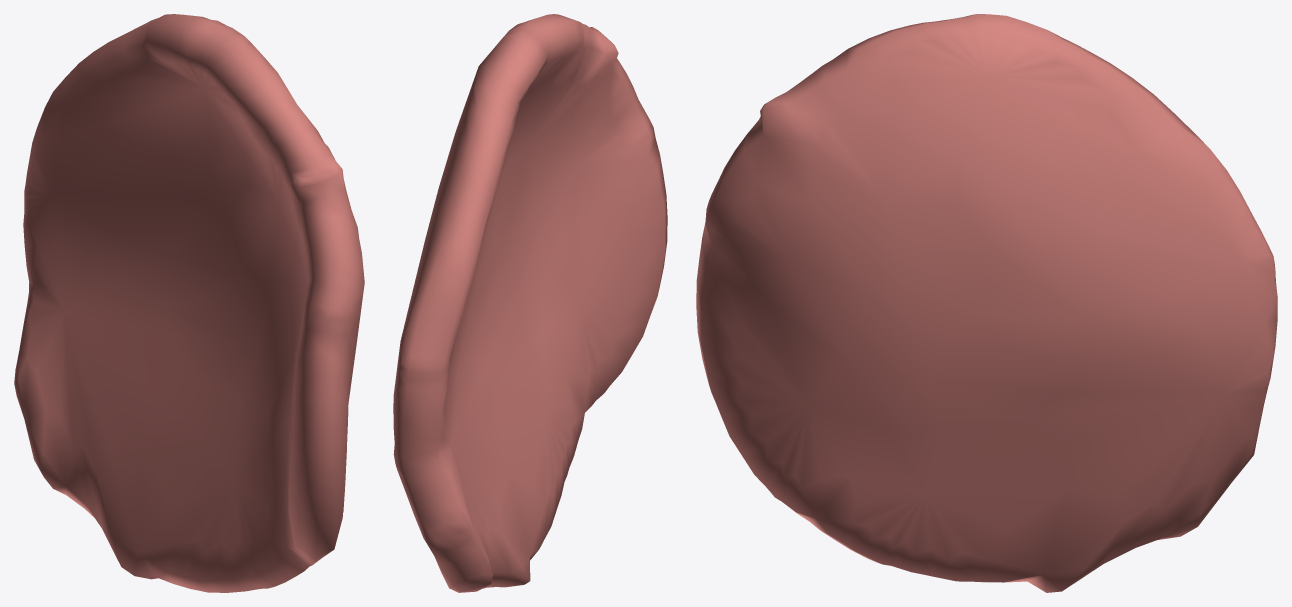
3 renders of one model, left to right at view 1: azimuth 30°, elevation 25°; view 2: azimuth 150°, elevation 25°; view 3: azimuth 270°, elevation 25°, orthographic. The views are drawn at different scales.
Visible parts, largest first — view 1: ZA_15fd49217b9984f1; view 2: ZA_15fd49217b9984f1; view 3: ZA_15fd49217b9984f1.
Part boxes in pixels (x1,y1,x2,y2): ZA_15fd49217b9984f1: (14, 14, 364, 592); ZA_15fd49217b9984f1: (393, 14, 667, 592); ZA_15fd49217b9984f1: (696, 14, 1277, 592).
Bounding box in the file's own units: 0.00151 × 0.00548 × 0.00495.
